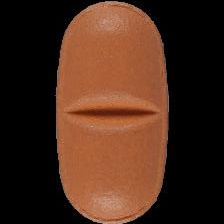49349-785: (0, 0, 224, 224)
